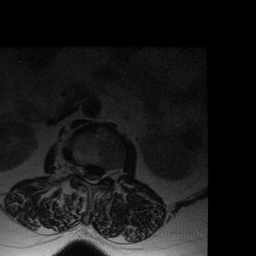CCS_severe_stenosis: (89, 155, 96, 191)
LFS_normal: (104, 159, 112, 185)
LLS_severe_stenosis: (96, 160, 104, 188)
RFS_normal: (74, 155, 82, 183)
RLS_normal: (81, 158, 89, 186)
